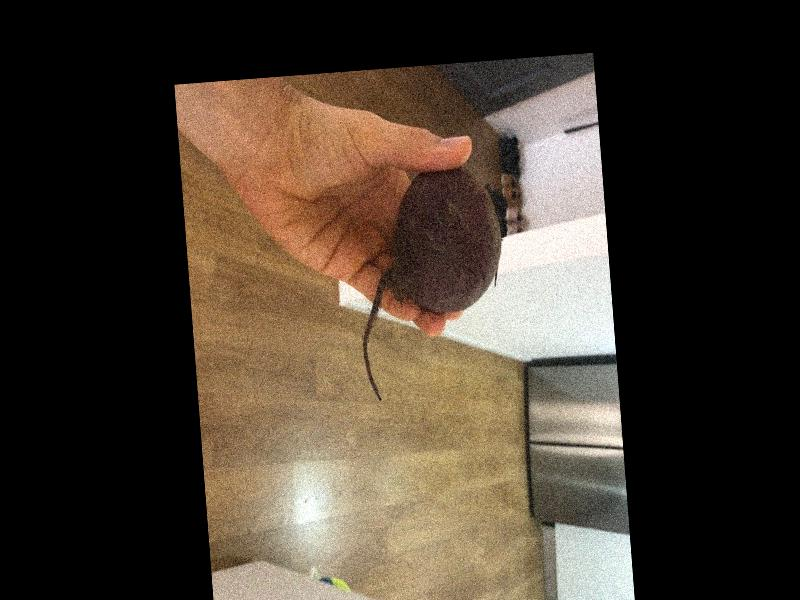Beet: (350, 164, 519, 402)
